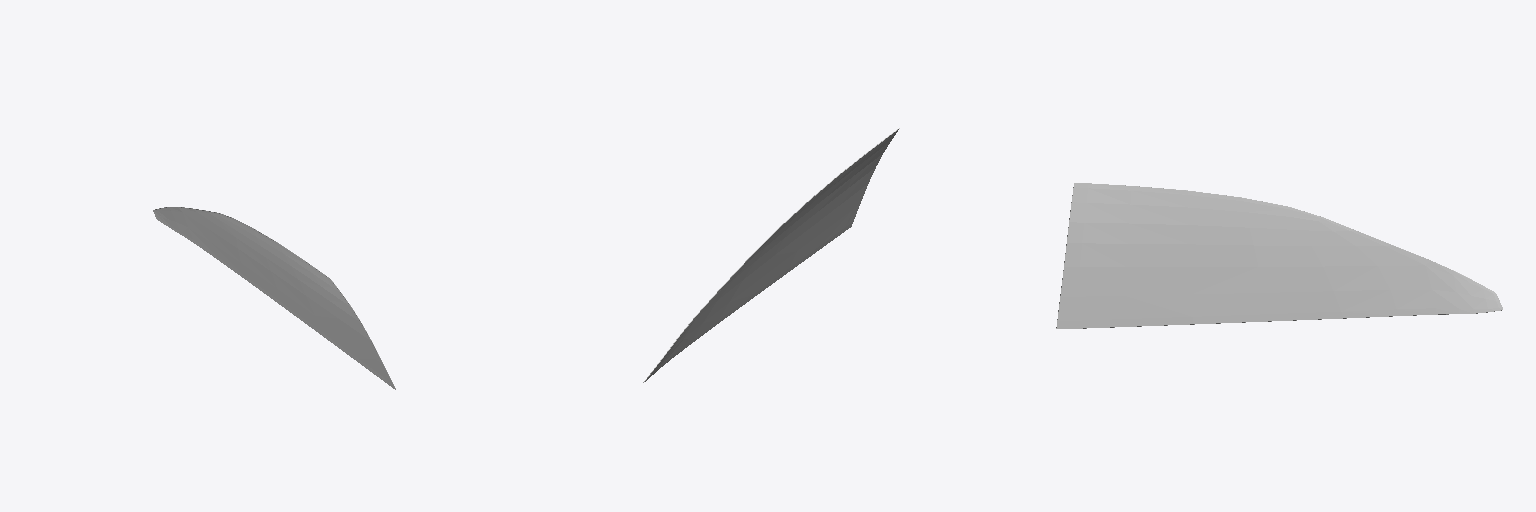
Rendered from geamspate.obj.
3 renders of one model, left to right at view 1: azimuth 30°, elevation 25°; view 2: azimuth 150°, elevation 25°; view 3: azimuth 270°, elevation 25°, orthographic.
Visible parts, largest first — view 1: Audi_A6.012; view 2: Audi_A6.012; view 3: Audi_A6.012.
Part boxes in pixels (left/top/right/bottom): Audi_A6.012: left=153, top=207, right=395, bottom=389; Audi_A6.012: left=643, top=128, right=899, bottom=382; Audi_A6.012: left=1056, top=183, right=1502, bottom=328.
Bounding box in the file's own units: 0.2178 × 0.4303 × 1.46.